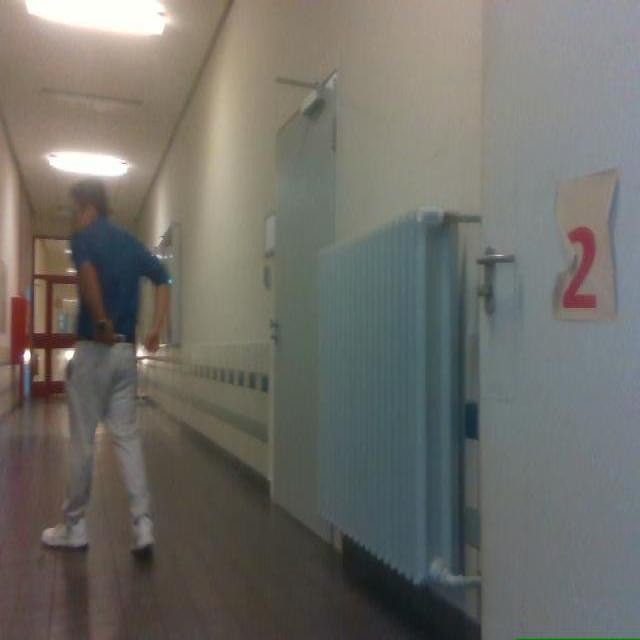humans: (41, 181, 169, 553)
